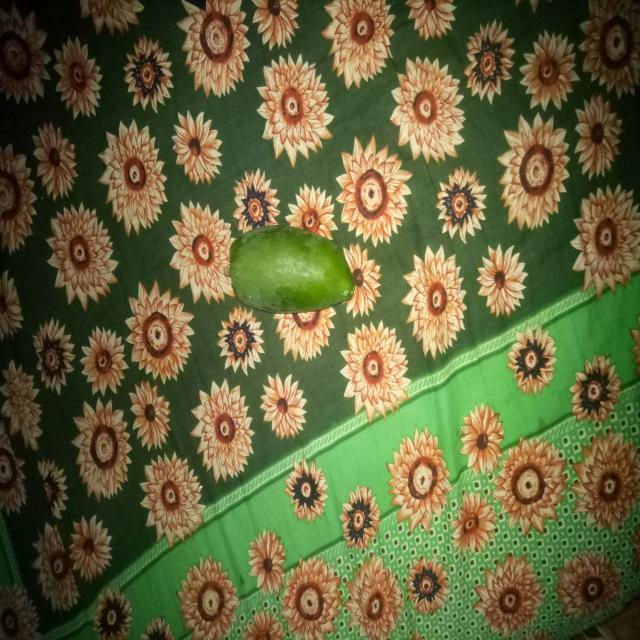Pepaya unrippen: (220, 224, 363, 327)
